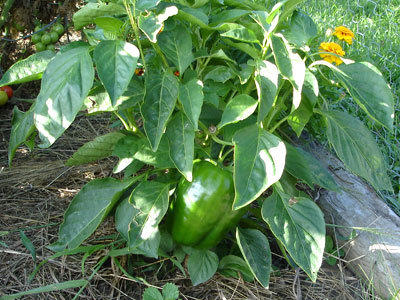capsicum: (168, 160, 248, 246)
